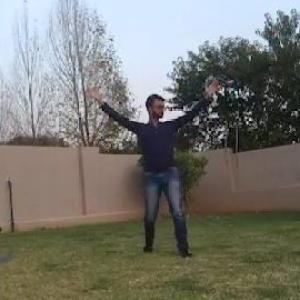takeoff: (86, 82, 224, 255)
